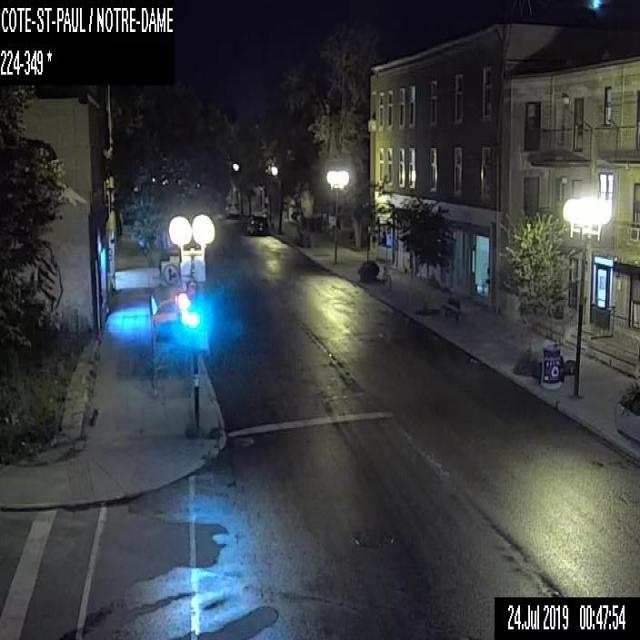vehicle: (247, 214, 267, 236), (226, 201, 240, 217)
